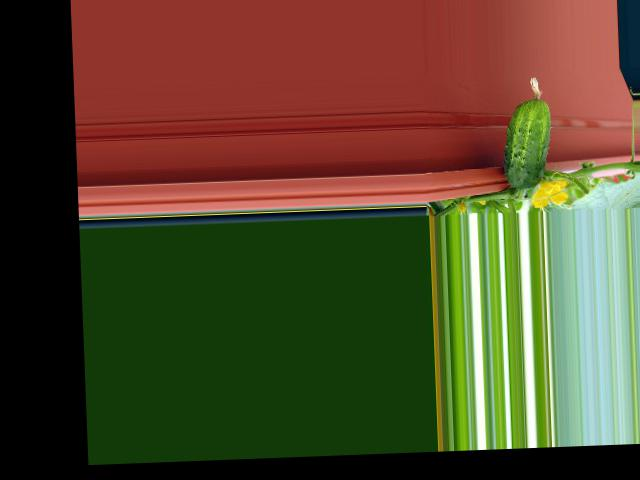cucumber: (501, 75, 554, 190)
